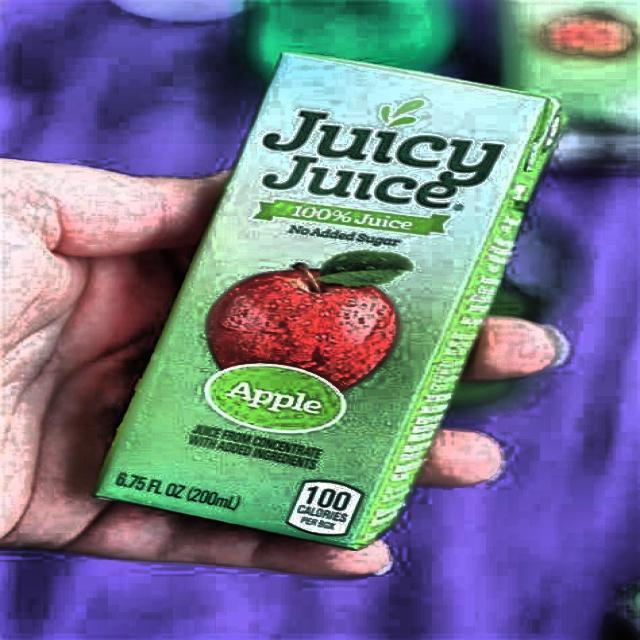cardboard: (91, 49, 564, 551)
